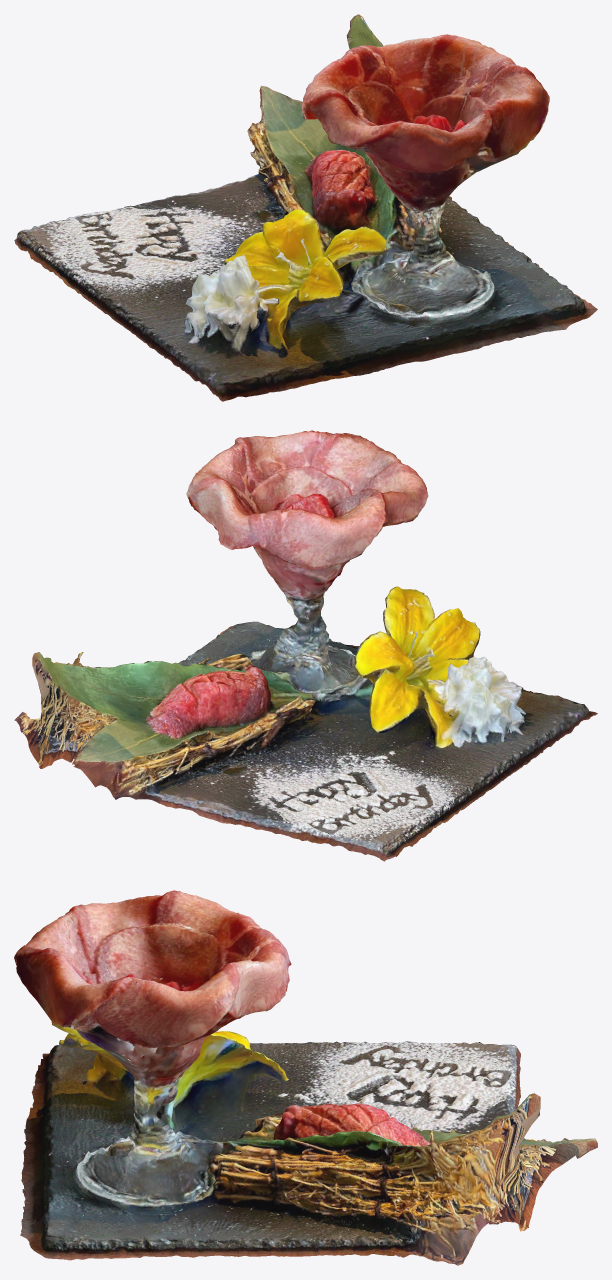
File: yakiniku_cake.glb
3 views of the same model, one above another, from view 1: azimuth 30°, elevation 25°; view 2: azimuth 150°, elevation 25°; view 3: azimuth 270°, elevation 25° (orthographic). The views are drawn at different scales.
Parts seen in each view (by area): view 1: 7fc2a93a-9a7c-44fb-9328-63fa80a75d02; view 2: 7fc2a93a-9a7c-44fb-9328-63fa80a75d02; view 3: 7fc2a93a-9a7c-44fb-9328-63fa80a75d02.
Boxes of the visible parts, x1,y1,x2,y2 form: 7fc2a93a-9a7c-44fb-9328-63fa80a75d02: (14,14,597,401); 7fc2a93a-9a7c-44fb-9328-63fa80a75d02: (14,430,597,861); 7fc2a93a-9a7c-44fb-9328-63fa80a75d02: (14,890,597,1265).
Size of the model in its own units: 0.3203 by 0.1746 by 0.3595.
1 material, 1 textured.
